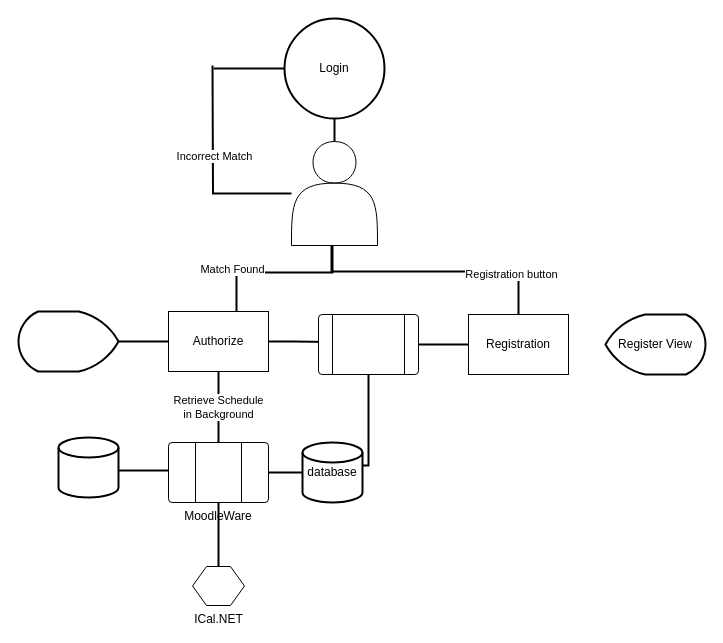
This 723x643 diagram has some shape labels left out. The shapes that lost their labels are listed below. From the top down, each one's centre as x and y in pixels, then its label:
At point (334, 193): "input username and password".
At point (68, 341): "Login View".
At point (368, 344): "Identity".
At point (88, 467): "Moodle".
